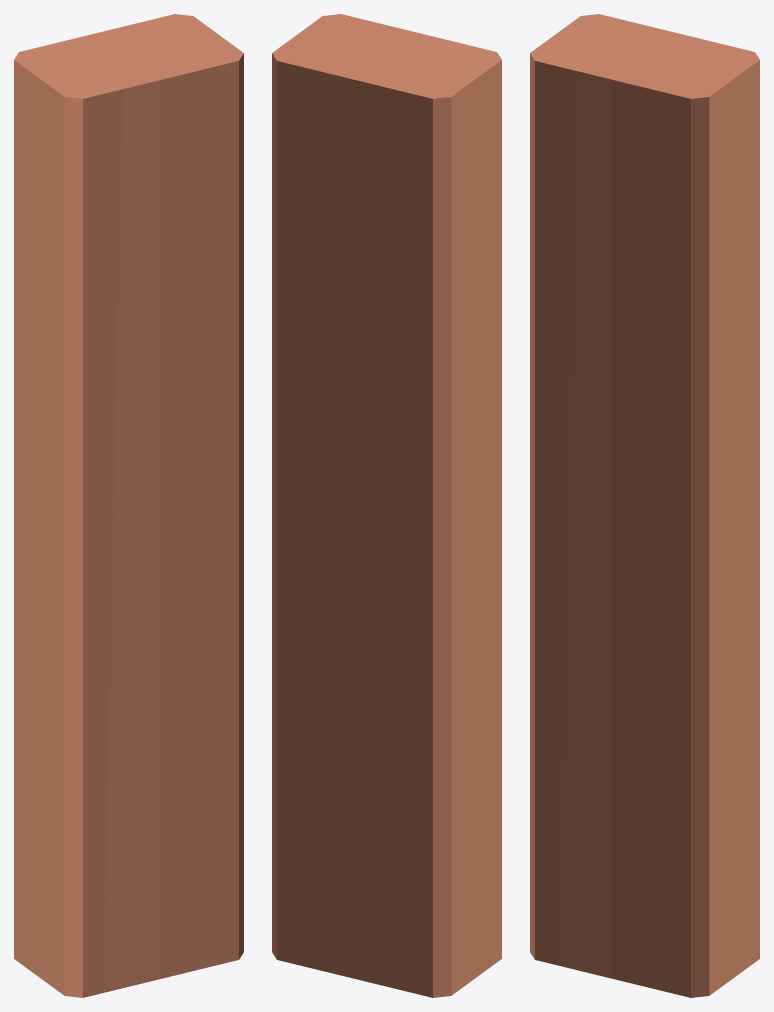
File: WoodPlank.fbx
3 views of the same model, side by side, from view 1: azimuth 30°, elevation 25°; view 2: azimuth 150°, elevation 25°; view 3: azimuth 330°, elevation 25° (orthographic).
Visible parts, largest first — view 1: woodPlank; view 2: woodPlank; view 3: woodPlank.
Part boxes in pixels (x1,y1,x2,y2): woodPlank: [14, 14, 243, 997]; woodPlank: [272, 14, 501, 997]; woodPlank: [530, 14, 759, 997].
Bounding box in the file's own units: 21.88 × 105 × 13.53.
1 material, 1 textured.
